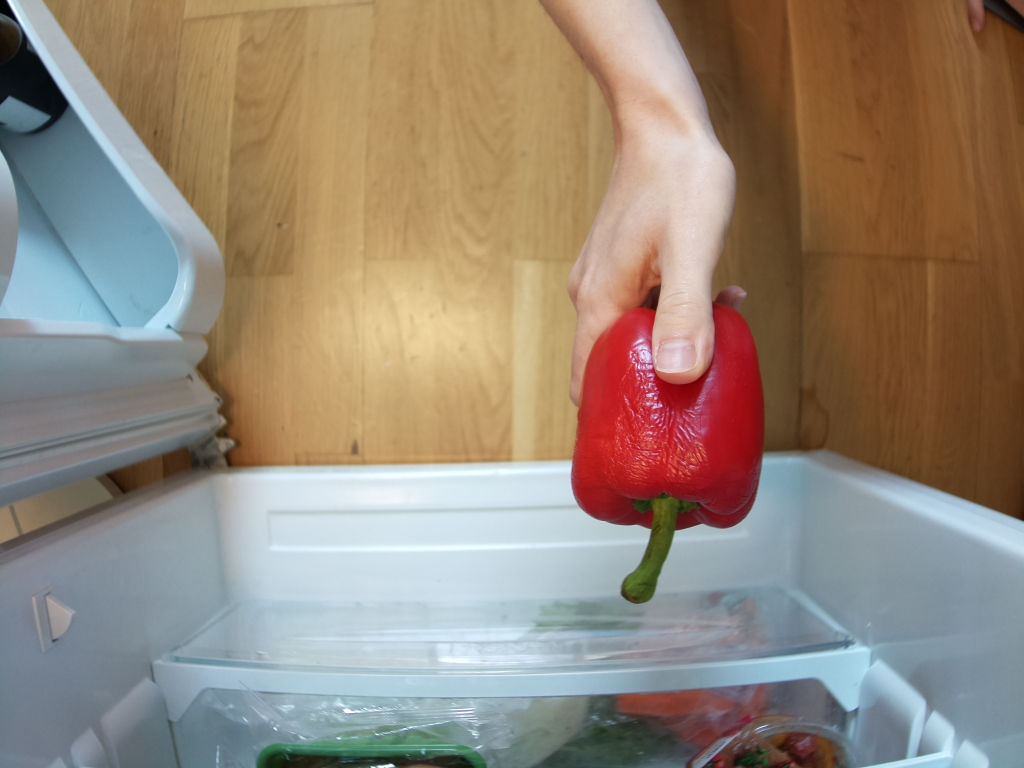pepper-bad: (564, 295, 769, 614)
